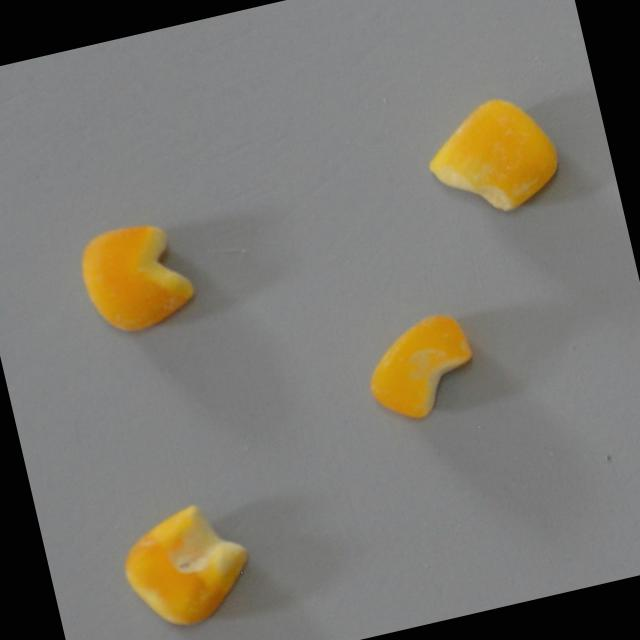no_canjicado: (418, 85, 569, 226), (73, 213, 202, 341), (356, 306, 487, 429)
punto_negro: (114, 494, 261, 637)
